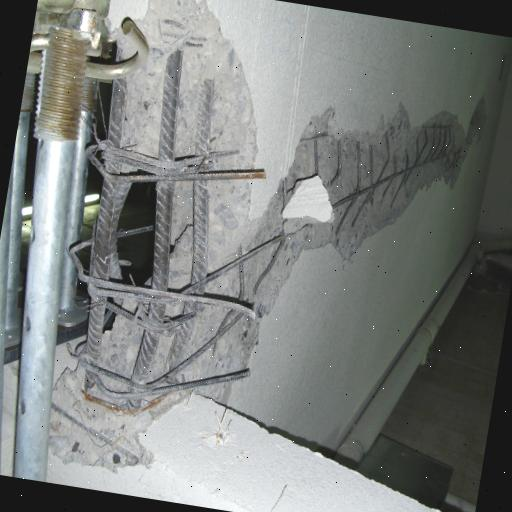spalling: (49, 0, 487, 464)
